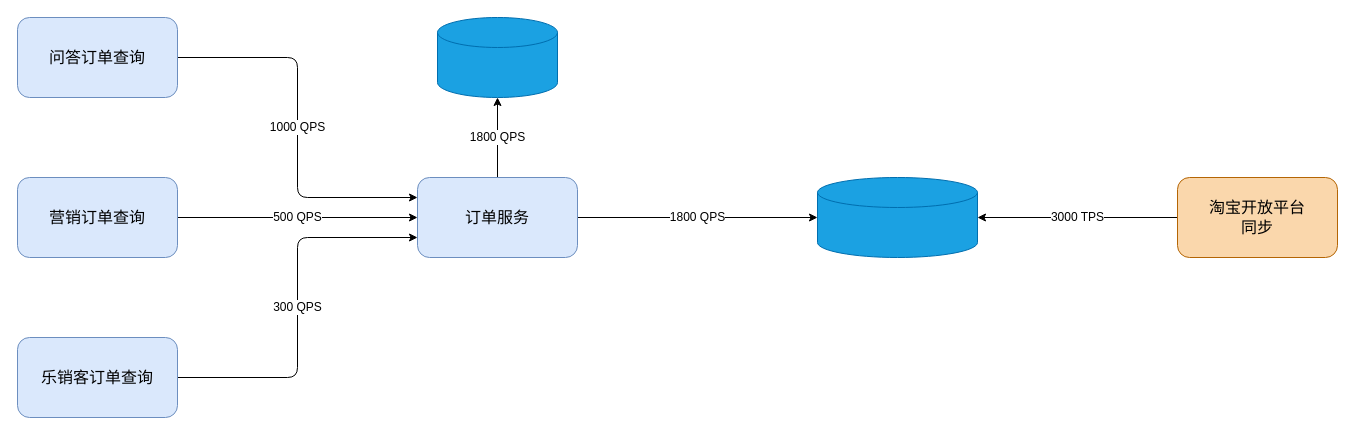
Some shapes in this 1355 by 435 pixel diagram are drawn without their labels. The shapes that lost their labels are listed below. From the top down, each one's centre as x and y in pixels, then its label:
the point at 497,57: 订单缓存
the point at 897,217: 订单数据库
